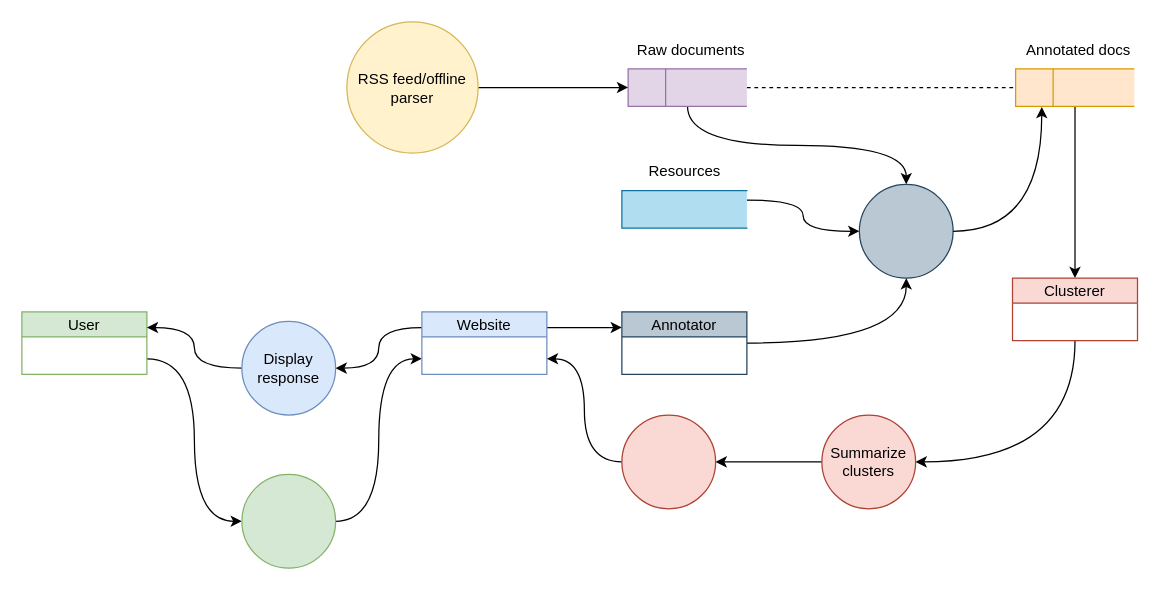
The diagram is 1169 pixels wide and 590 high, and some of its shapes have lost their labels. Each missing label, with the centre of its shape:
Annotate new docs: pixel 905 230
Create response: pixel 668 461
Send request: pixel 288 520
